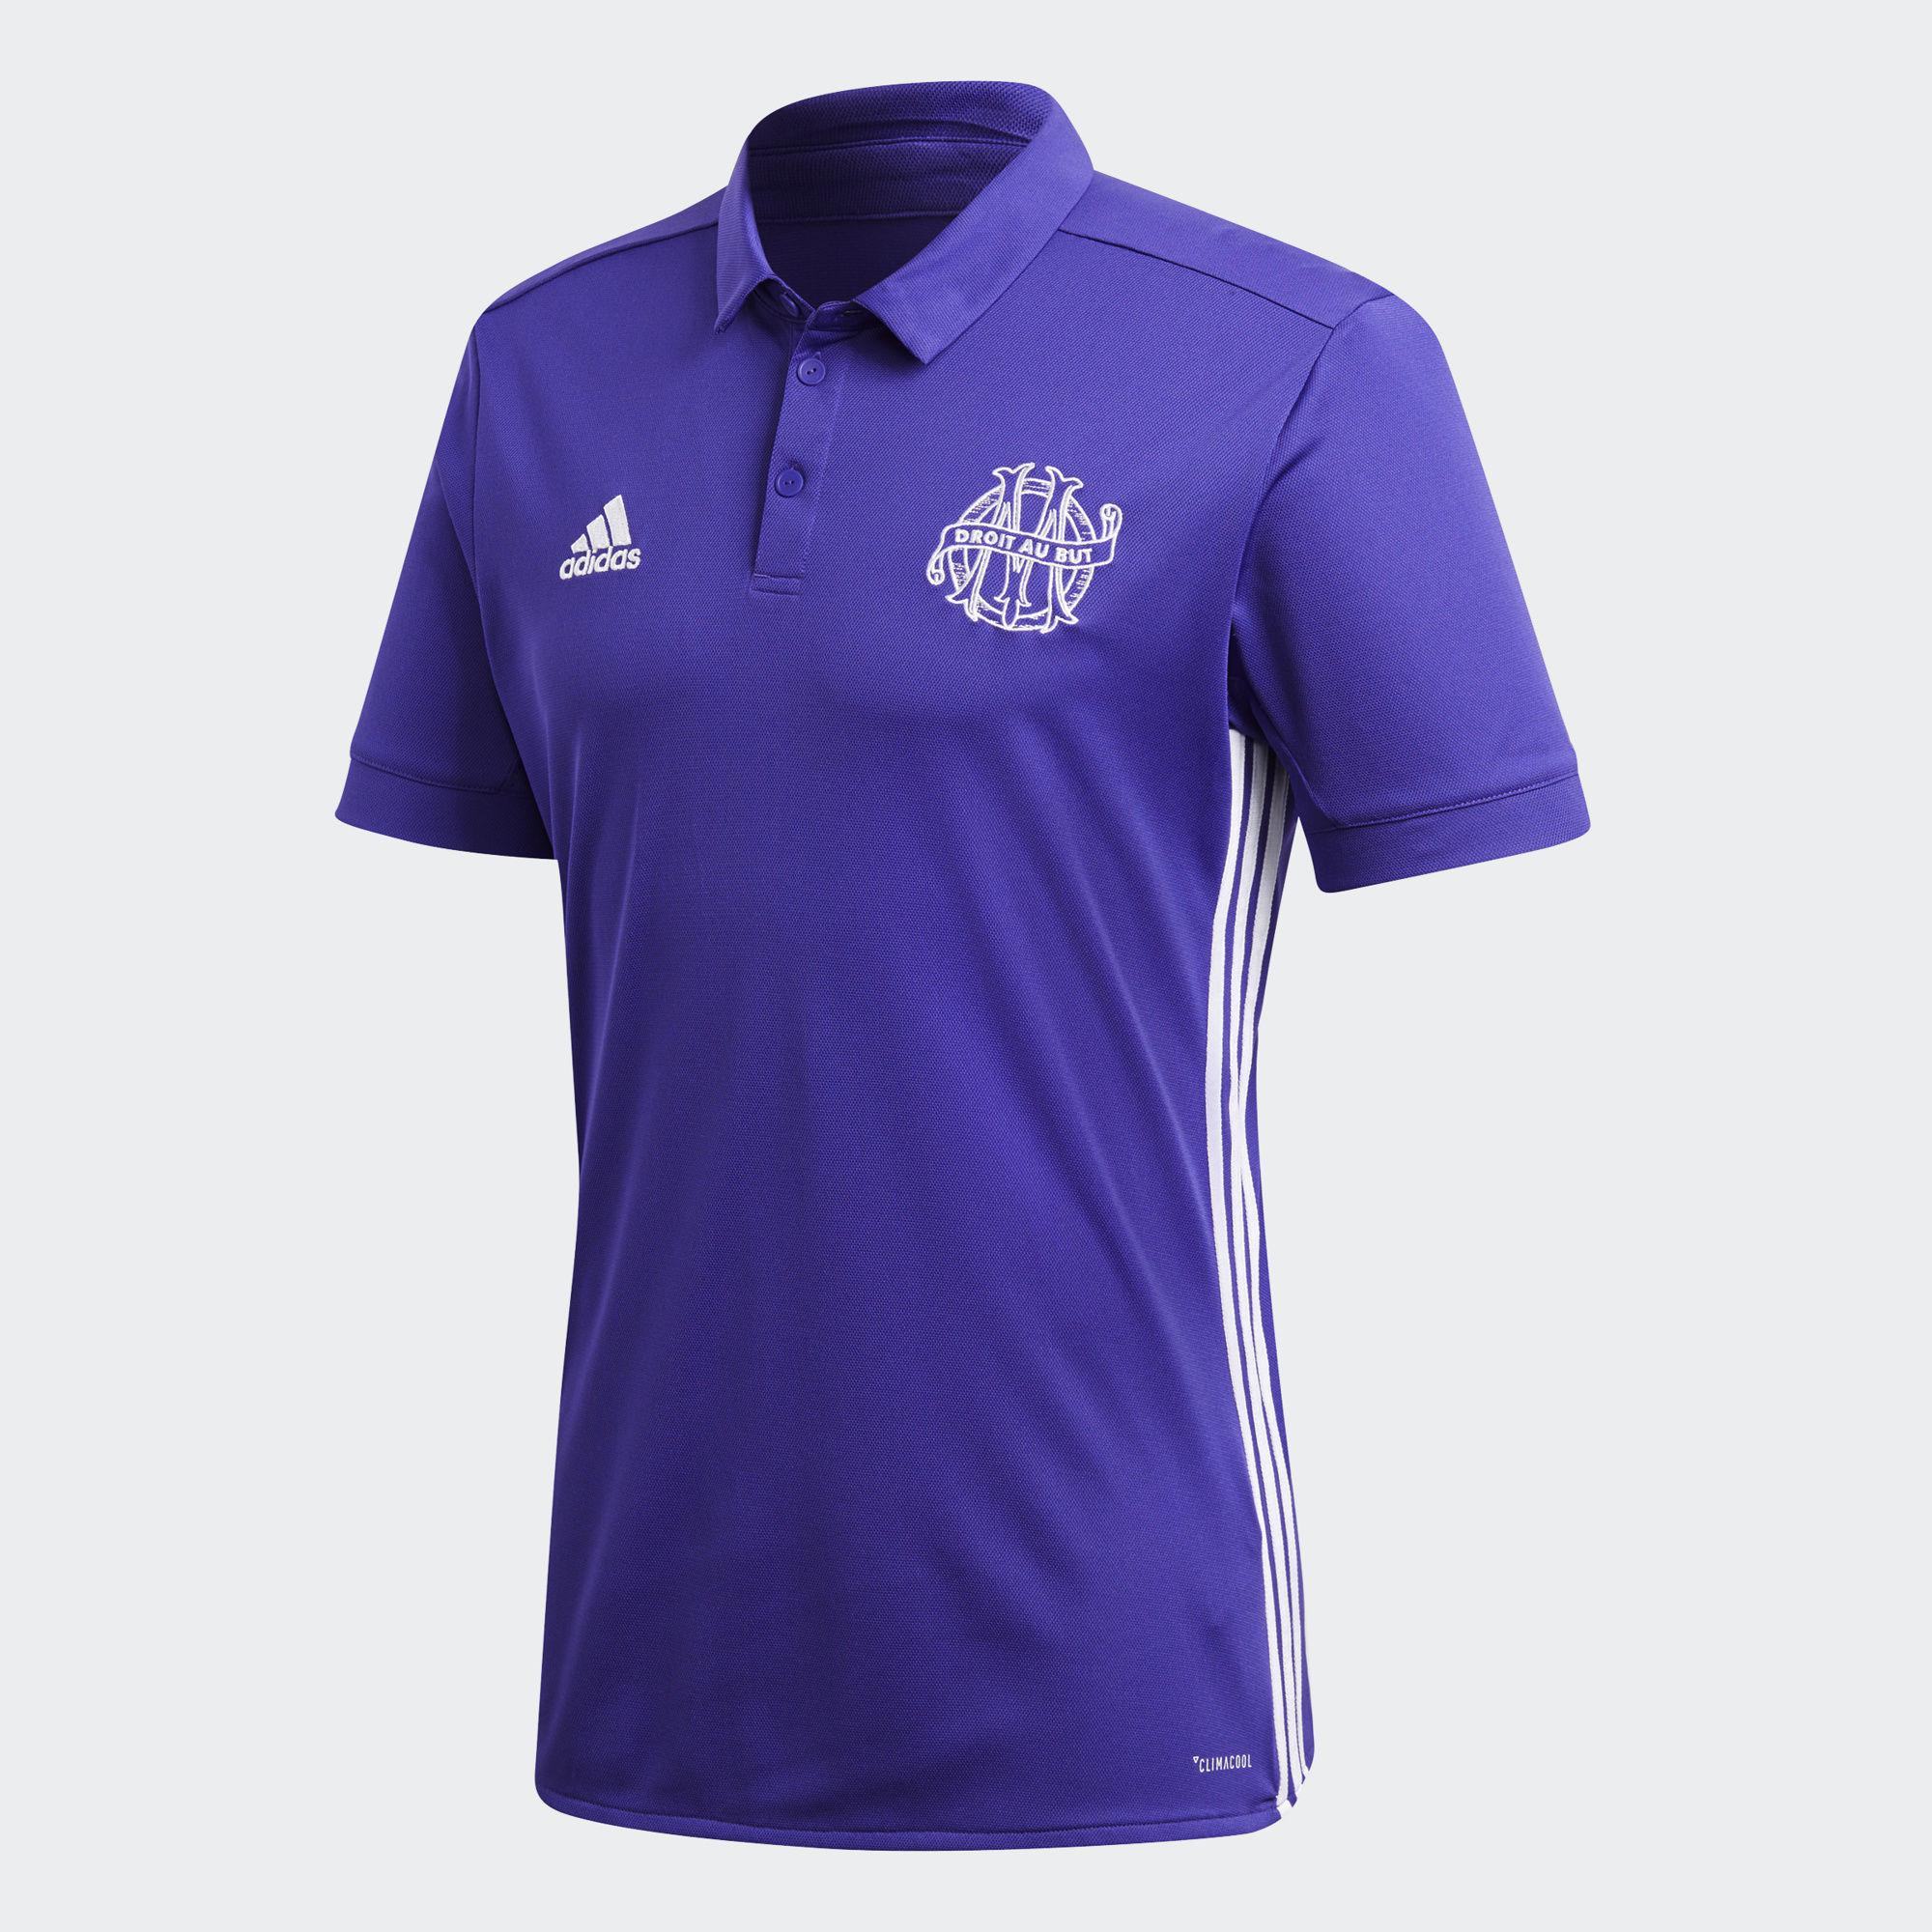teeshirt: (285, 81, 1644, 1923)
